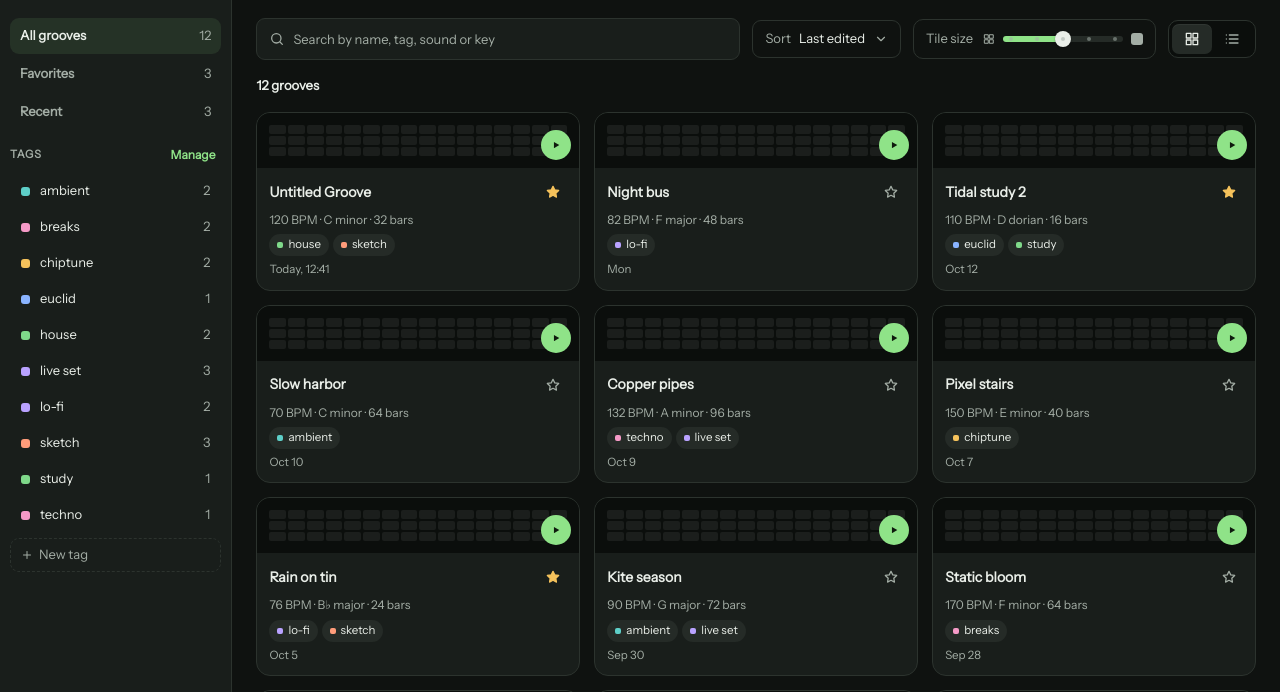
Test: GrooveBrowser › should filter as you type and restore with Clear all
Check: the text "12 grooves" is shown, box [256, 77, 319, 95]
Type "night" into the search field named "Search grooves" at (510, 39), box [293, 19, 728, 59]
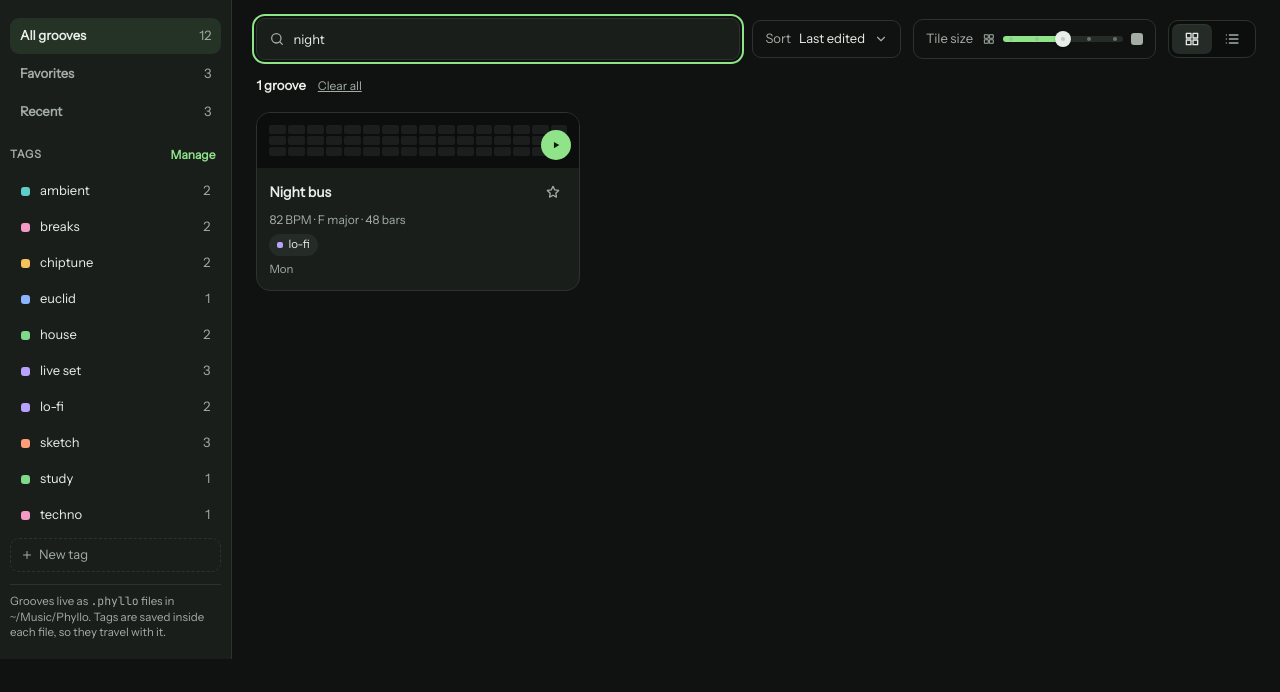
Check: the text "1 groove" is shown, box [256, 77, 306, 95]
Click the button "Clear all" at (340, 86), box [312, 73, 368, 99]
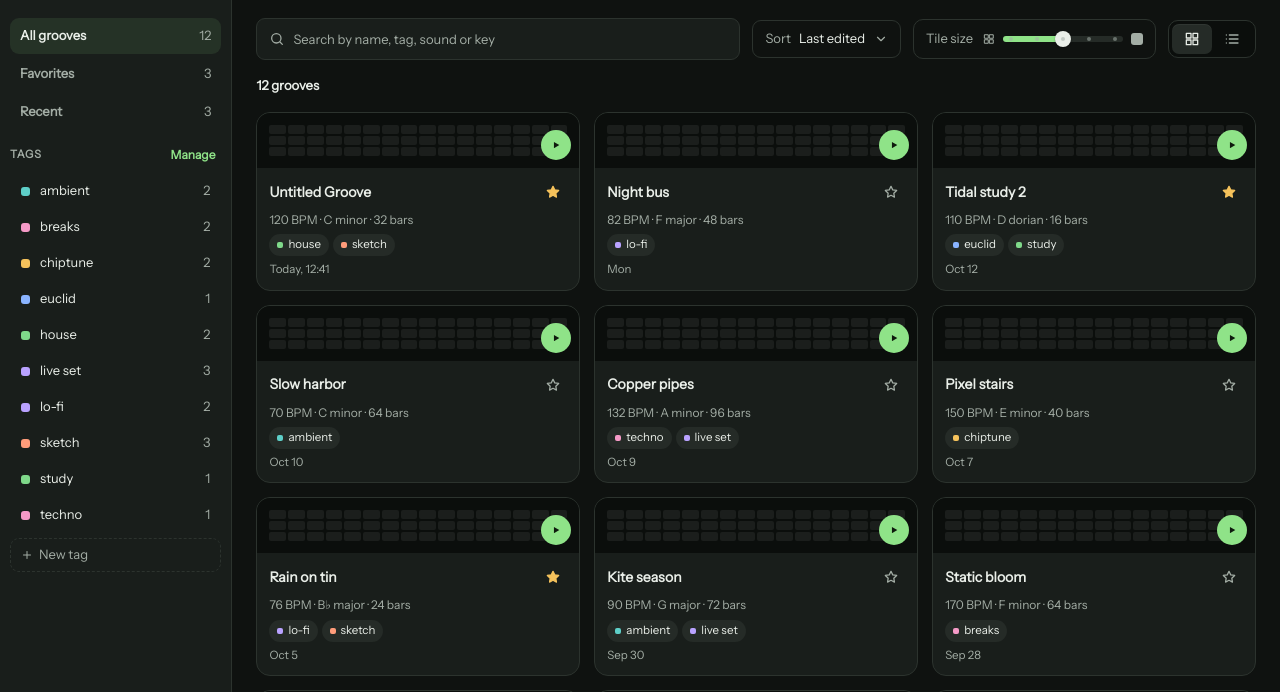
Check: the text "12 grooves" is shown, box [256, 77, 319, 95]
Check: the search field named "Search grooves" is empty, box [293, 19, 728, 59]
